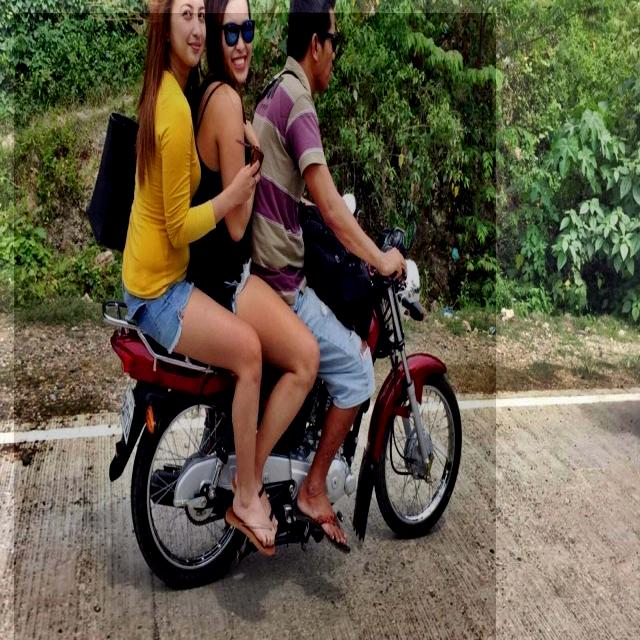No_Helmet: (280, 12, 386, 118), (133, 22, 228, 95)
Overloading: (14, 13, 496, 640)
